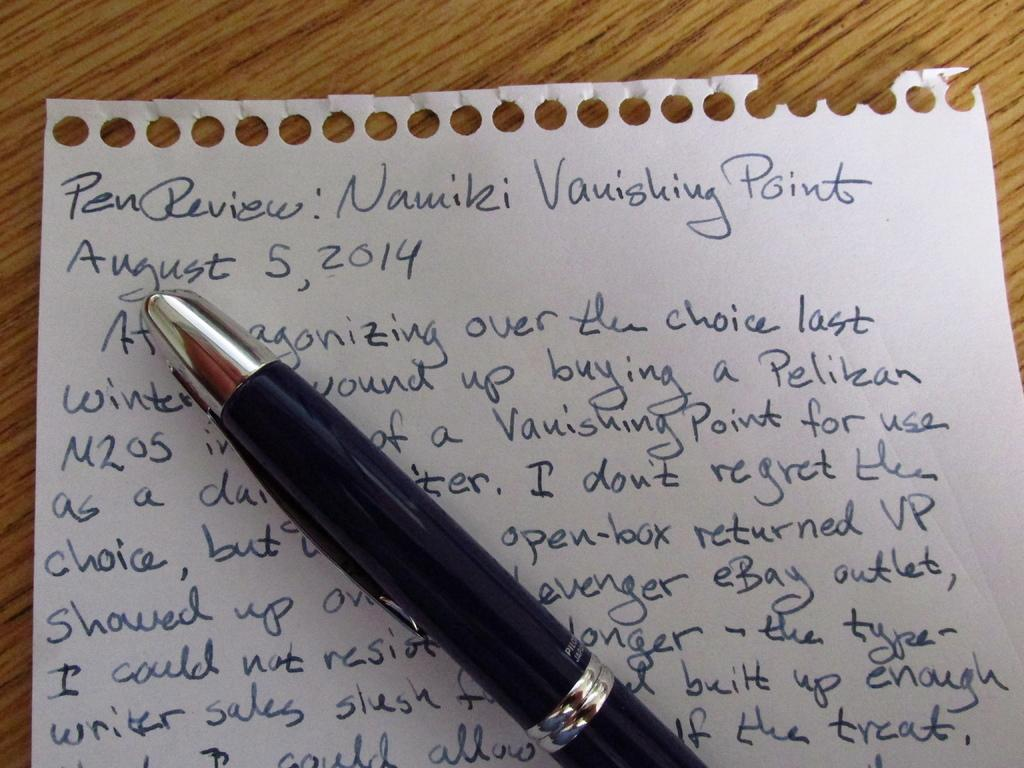pen: (133, 284, 702, 767)
